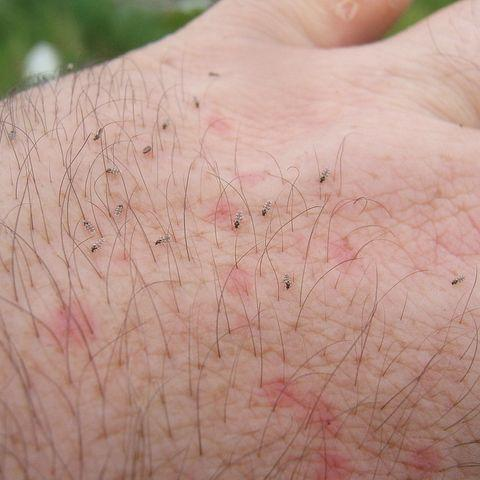Gnat-bites: (291, 384, 348, 443), (392, 426, 451, 480), (195, 179, 244, 238), (47, 294, 87, 358), (214, 258, 264, 309), (318, 230, 373, 269), (249, 374, 300, 413), (192, 105, 238, 147), (304, 451, 348, 480)
